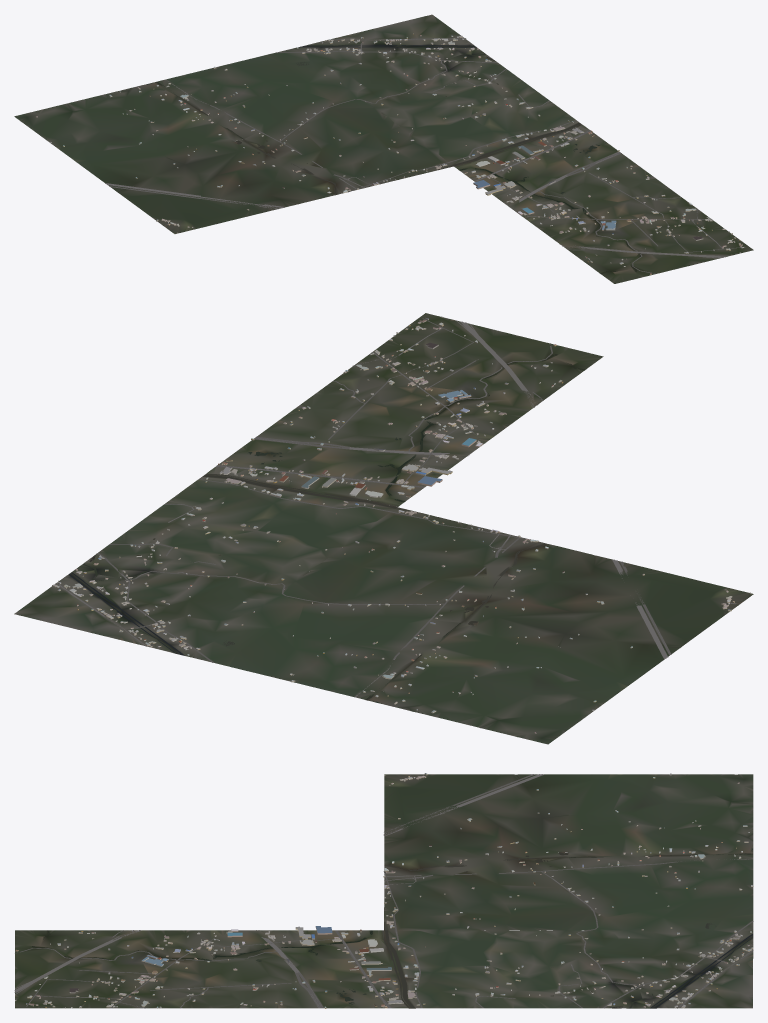
3 views of the same model, one above another, from view 1: azimuth 30°, elevation 25°; view 2: azimuth 150°, elevation 25°; view 3: azimuth 270°, elevation 25° (orthographic). The views are drawn at different scales.
Visible parts, largest first — view 1: ground, buildings, roads, water; view 2: ground, buildings, roads, water; view 3: ground, buildings, roads, water.
Boxes of the visible parts, left/top/right/bottom form: ground: left=14, top=14, right=753, bottom=283; buildings: left=35, top=33, right=744, bottom=274; roads: left=105, top=38, right=745, bottom=273; water: left=147, top=45, right=640, bottom=273; ground: left=14, top=313, right=753, bottom=744; buildings: left=52, top=316, right=750, bottom=733; roads: left=56, top=318, right=736, bottom=697; water: left=69, top=354, right=584, bottom=703; ground: left=15, top=774, right=753, bottom=1008; buildings: left=15, top=773, right=753, bottom=1008; roads: left=14, top=774, right=753, bottom=1008; water: left=32, top=848, right=752, bottom=1008.
Bounding box in the file's own units: 4218 × 20.91 × 5617.
